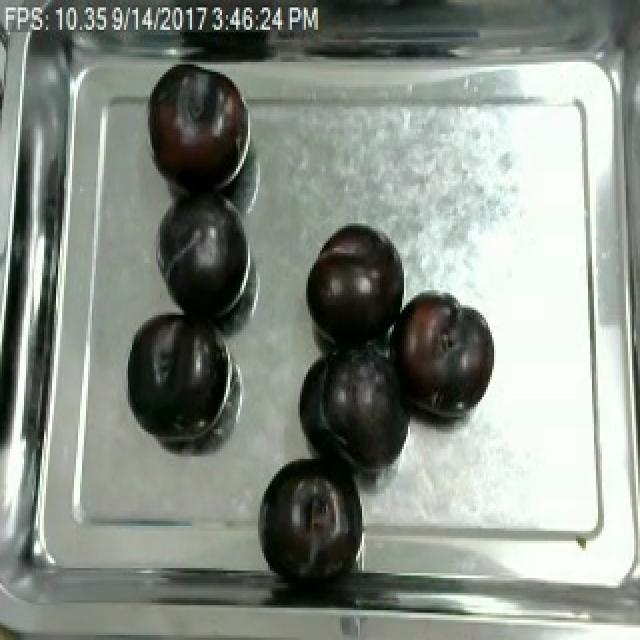Fruit: (140, 57, 252, 199), (118, 303, 230, 444), (388, 288, 498, 422), (312, 340, 420, 476), (256, 451, 364, 583), (154, 194, 254, 328), (302, 221, 402, 352)
